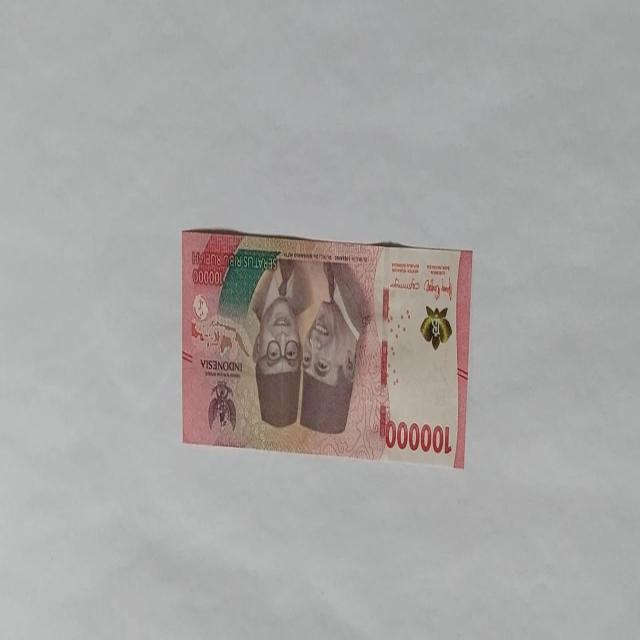Kertas: (181, 227, 473, 468), (383, 418, 453, 455)
